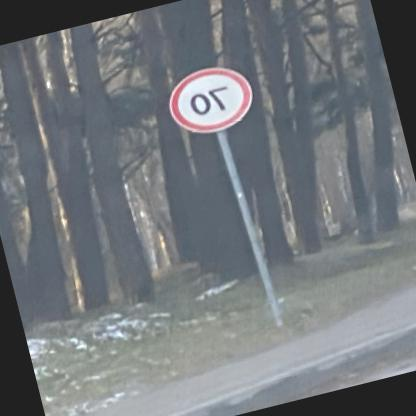speedlimit: (166, 59, 262, 139)
